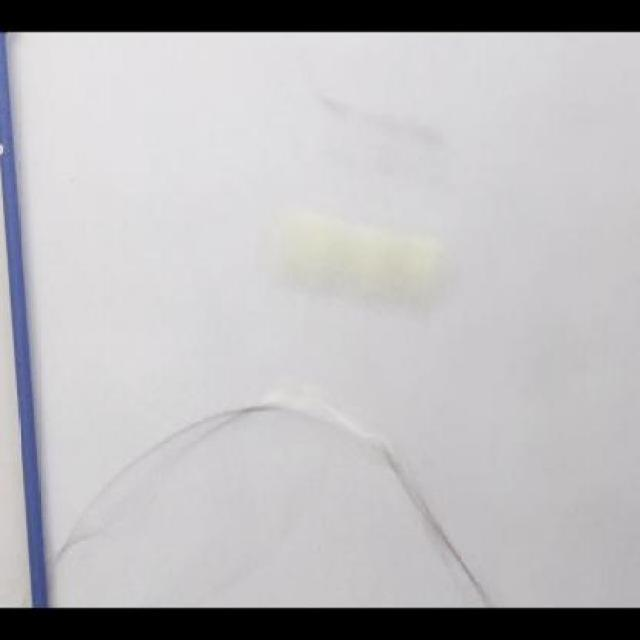baseball: (276, 255, 455, 262)
